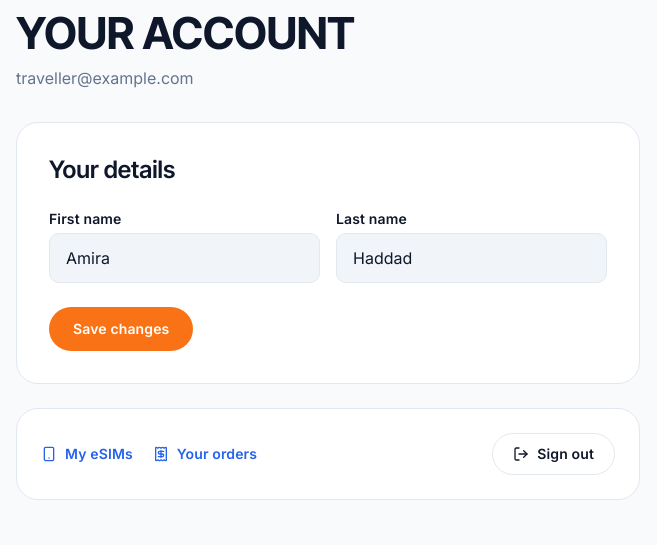
Test: saving › surfaces a per-field rejection against that field
Expected: the 1st field named "first name" holds "Amira", [49,233,320,283]
Click the 1st button named "save". click: (121, 329)
box: [49,307,193,351]
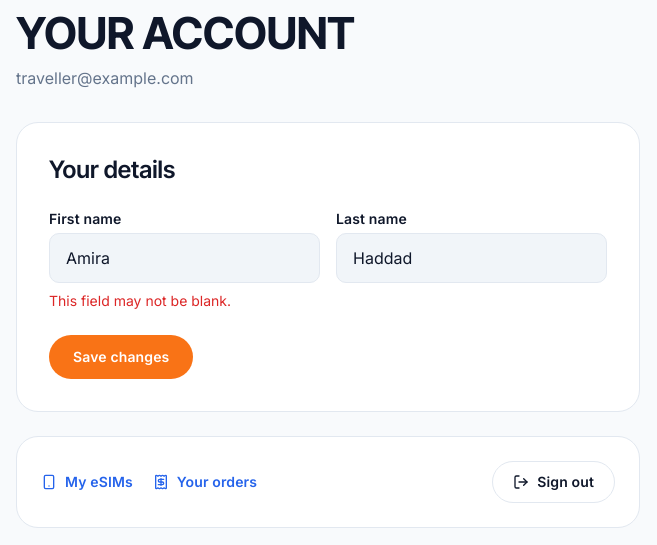
Now the text "may not be blank" is shown, box [49,292,231,309]
